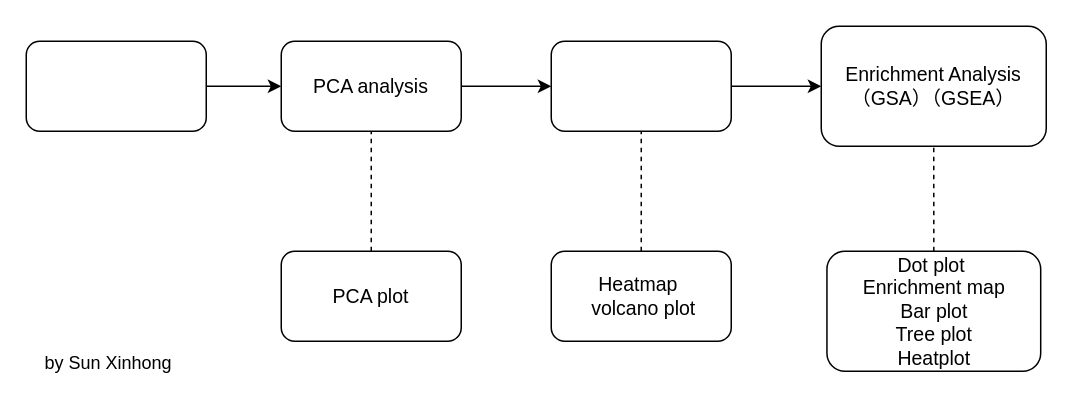
Image size: 1073x413. Some labels were removed from this diagram. Here are the shapes that lost their labels. From the top down, the box of each, then its label:
(25, 40, 206, 131): Data processing
(550, 40, 731, 131): DEGs analysis （DESeq2）
